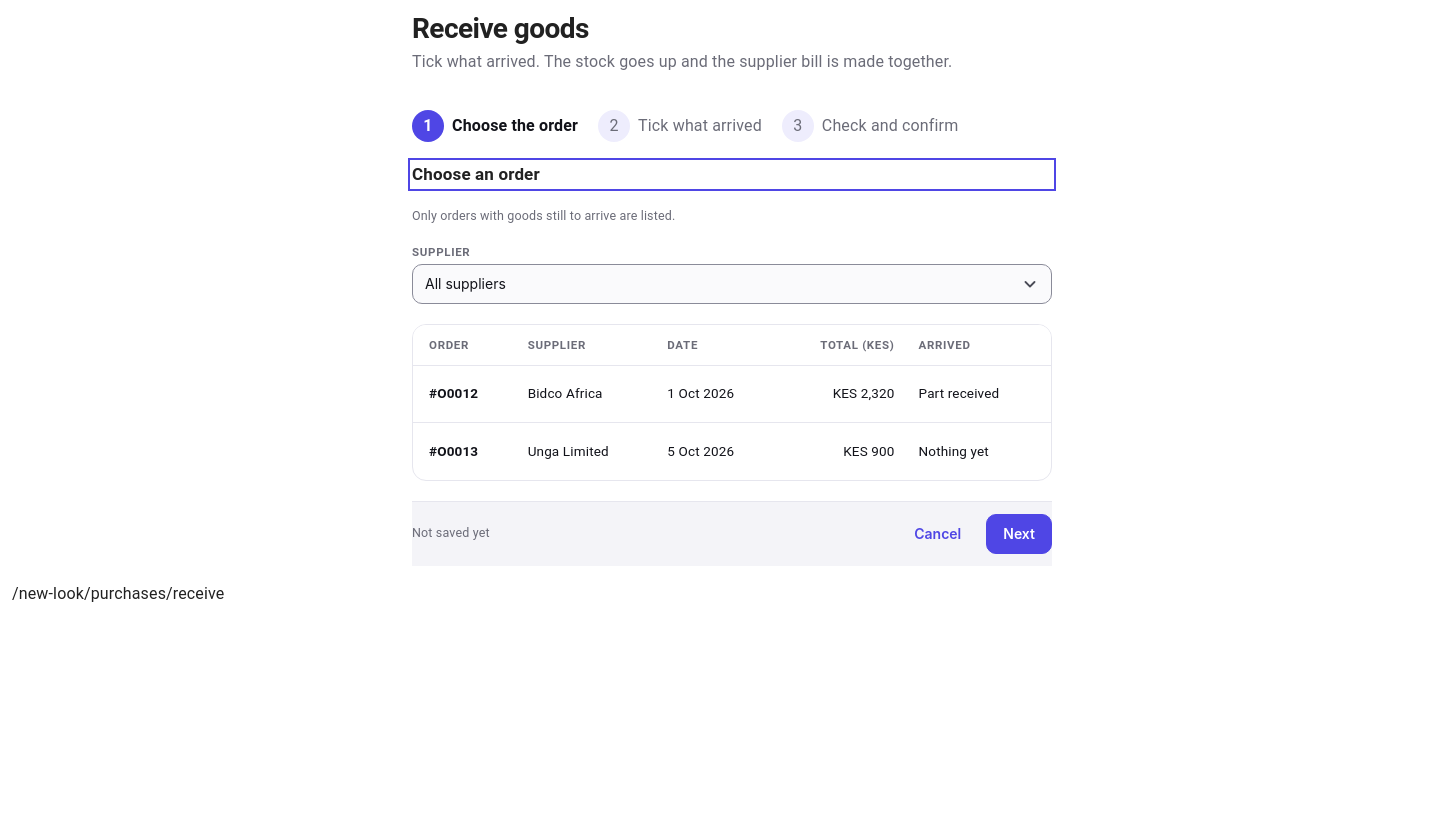
Test: step 1: choose the order › choosing an order and going on asks the server for that order and shows its items
The width and height of the screenshot is (1452, 822).
Click the row "#O0012 Bidco Africa 1 Oct 2026 KES 2,320 Part received" at [732, 394], box [413,366,1051,423]
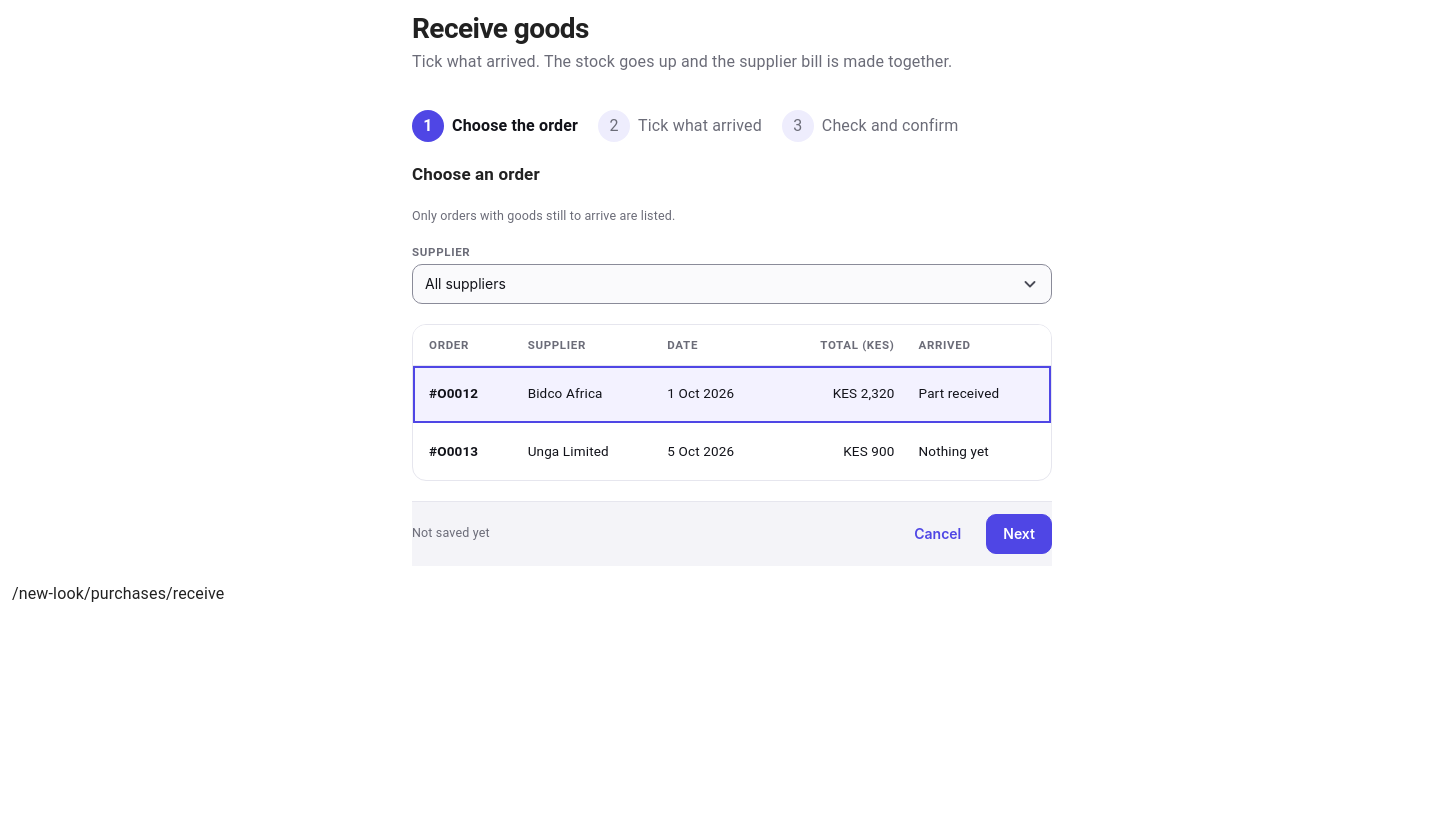
Click the button "Next" at [1019, 534], box [986,514,1052,554]
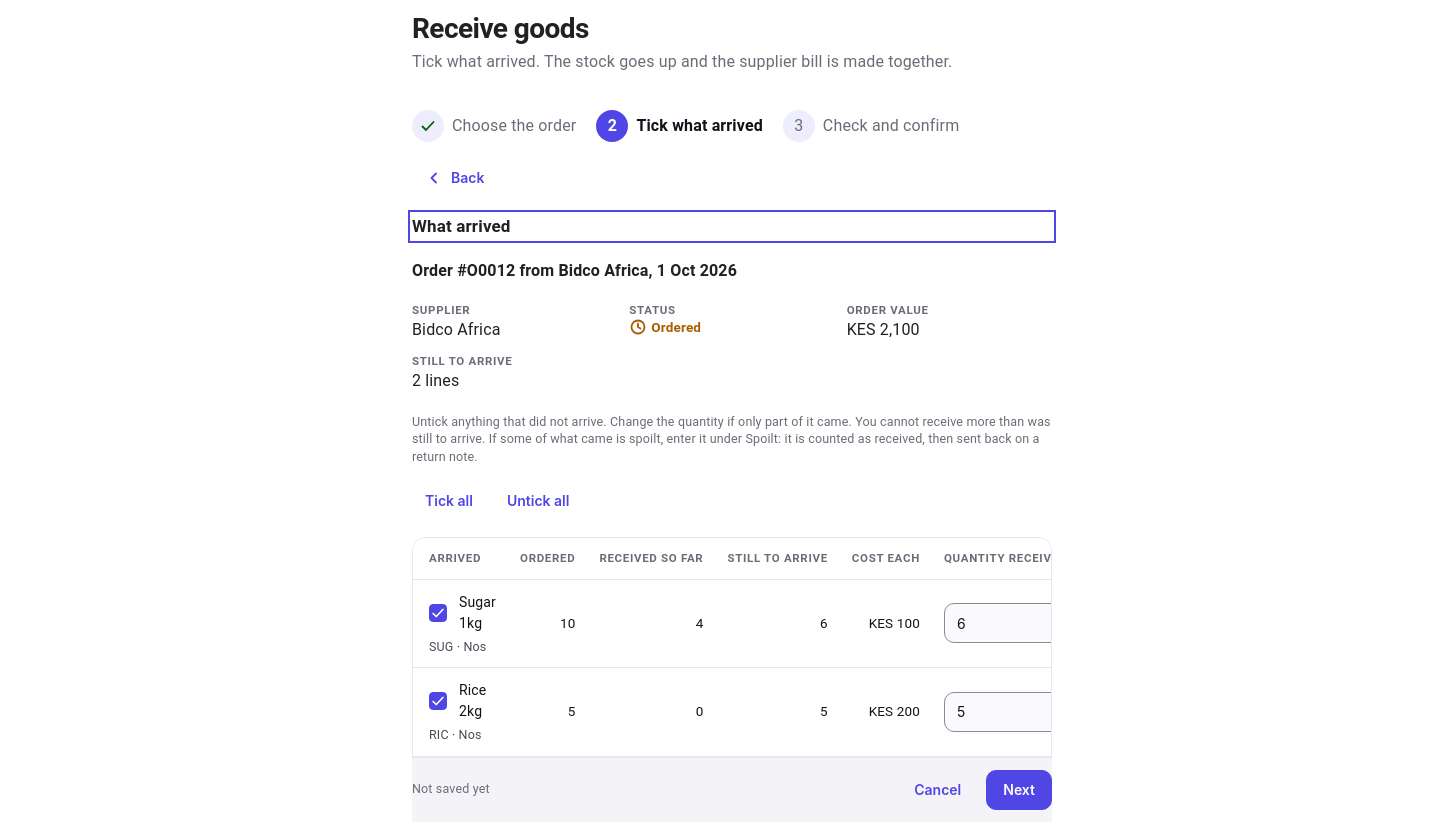
Check: the heading "What arrived" is shown, box [412,216,511,236]
Check: the text "Order #O0012 from Bidco Africa, 1 Oct 2026" is shown, box [412,261,737,280]
